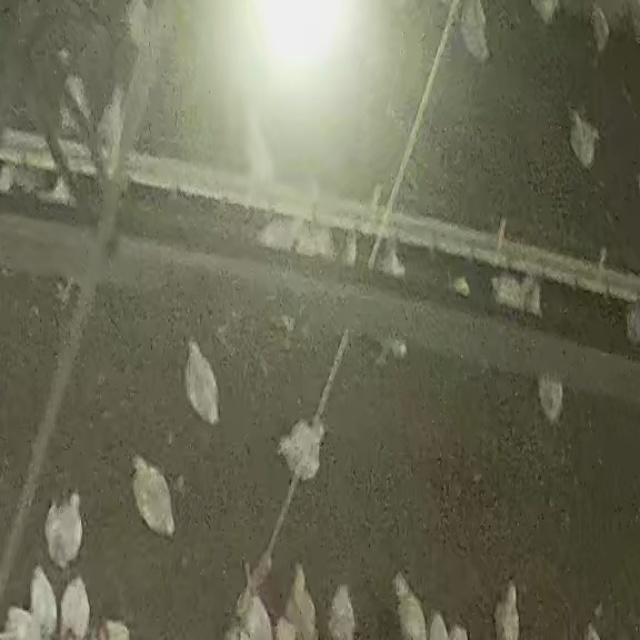chicken: (40, 491, 86, 566), (130, 456, 172, 536), (182, 339, 217, 422), (284, 565, 316, 640), (281, 421, 327, 468), (392, 577, 426, 640), (568, 106, 601, 169), (61, 572, 90, 638), (30, 567, 54, 630), (492, 583, 518, 639)
